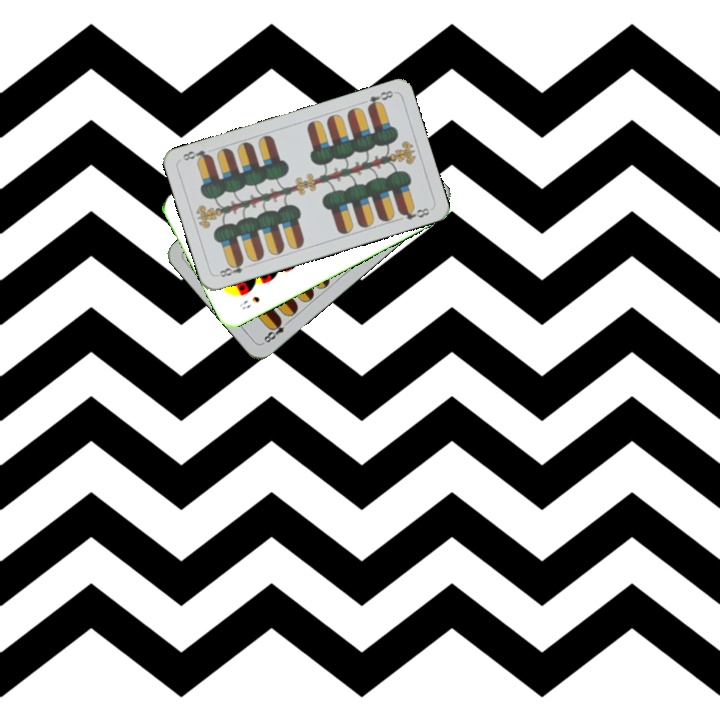E8: (259, 315, 293, 346), (363, 86, 396, 112), (213, 257, 246, 280)
S8: (235, 292, 262, 312)
